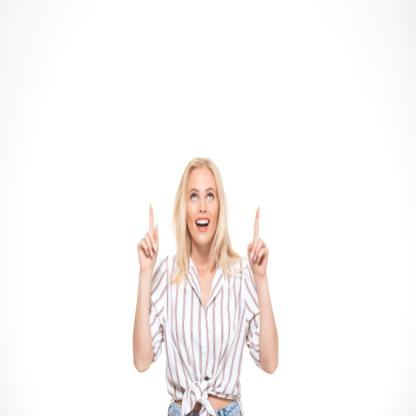Up: (248, 198, 277, 278), (136, 197, 163, 266)
